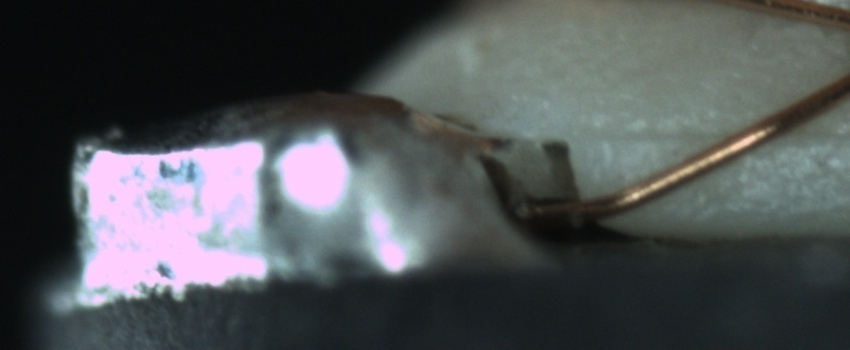DL: (606, 97, 846, 165)
